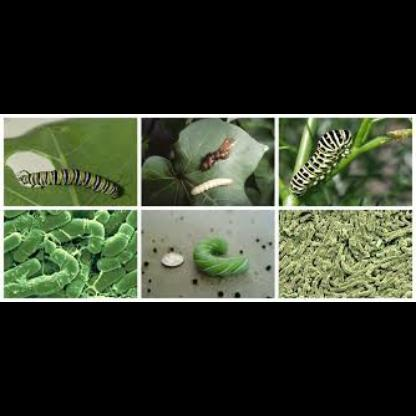oruga: (188, 235, 250, 281)
